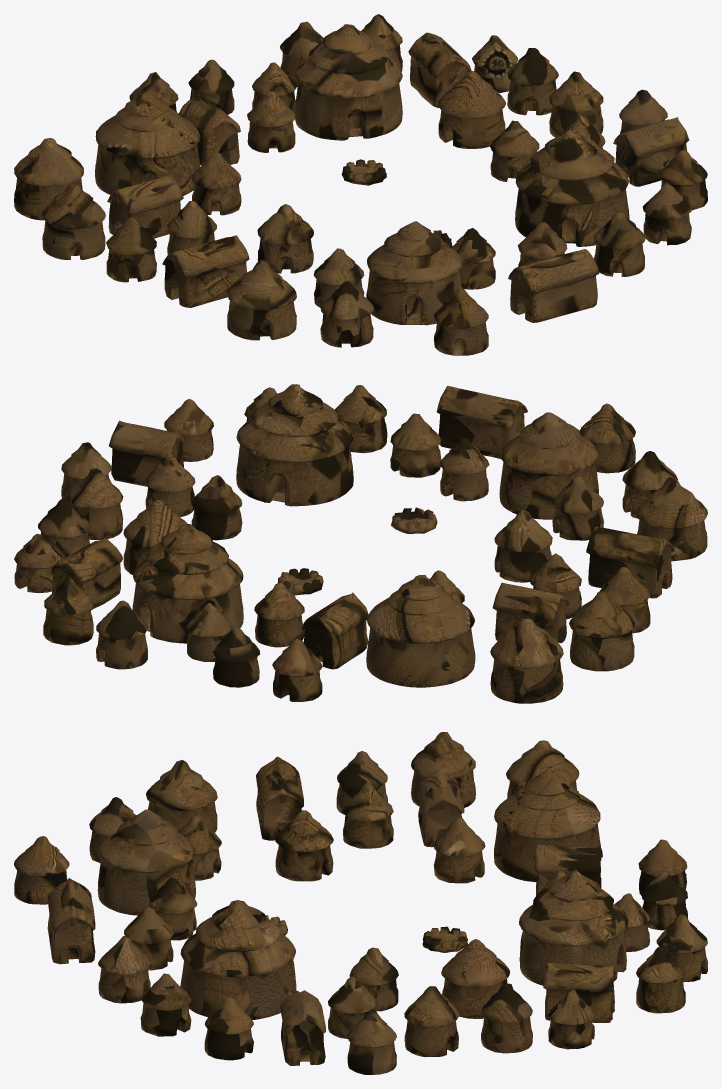
Rendered from Prehistoric Town (East African).fbx.
3 views of the same model, one above another, from view 1: azimuth 30°, elevation 25°; view 2: azimuth 150°, elevation 25°; view 3: azimuth 270°, elevation 25° (orthographic). The views are drawn at different scales.
Visible parts, largest first — view 1: tripo_node_4b79725b; view 2: tripo_node_4b79725b; view 3: tripo_node_4b79725b.
Boxes of the visible parts, x1,y1,x2,y2 form: tripo_node_4b79725b: [14, 14, 707, 355]; tripo_node_4b79725b: [14, 384, 707, 703]; tripo_node_4b79725b: [14, 732, 707, 1074].
Bounding box in the file's own units: 0.9927 × 0.1533 × 1.
